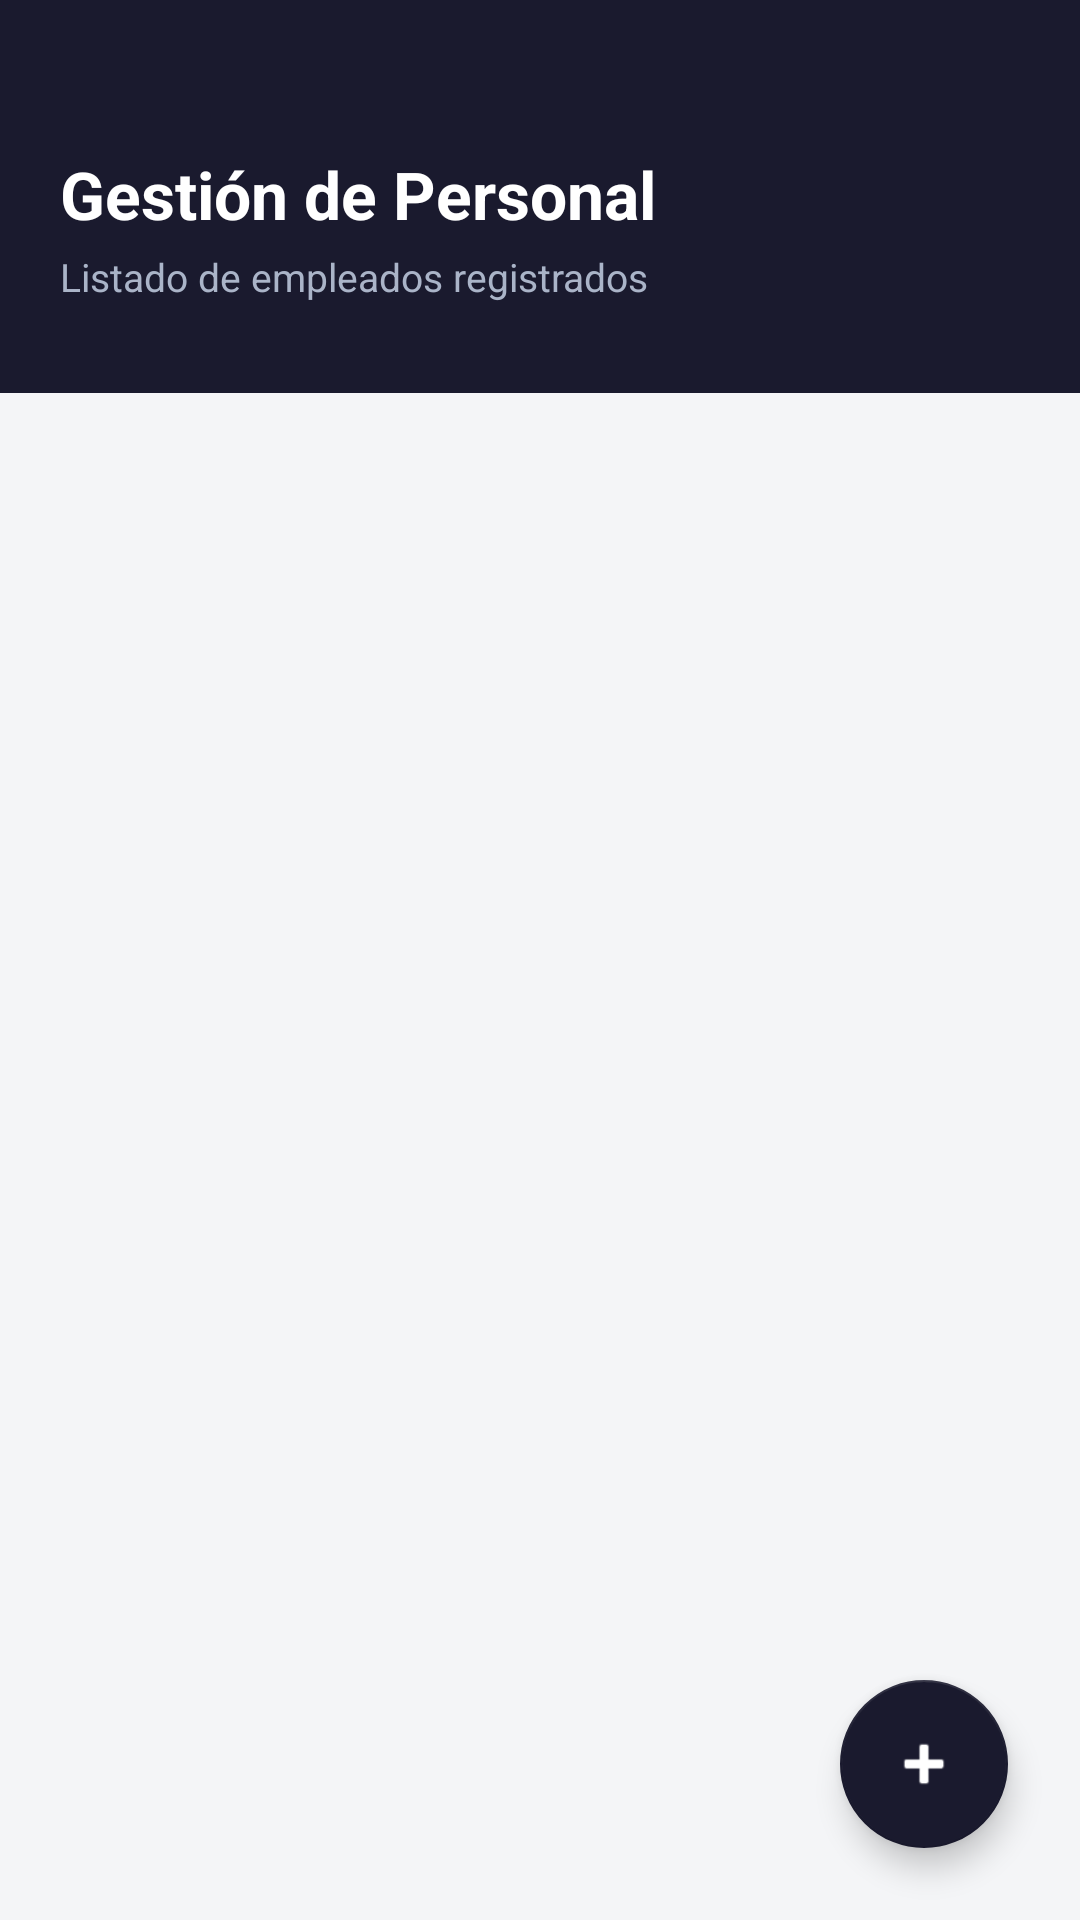

Named icons in this screenshot (1080px x 1920px) and their centers, (x,y):
Nuevo Registro: (924,1764)
